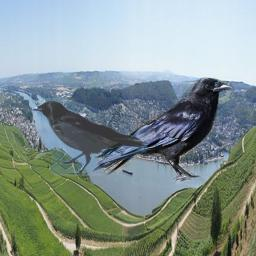Crow: (90, 74, 235, 186), (31, 98, 149, 176)
